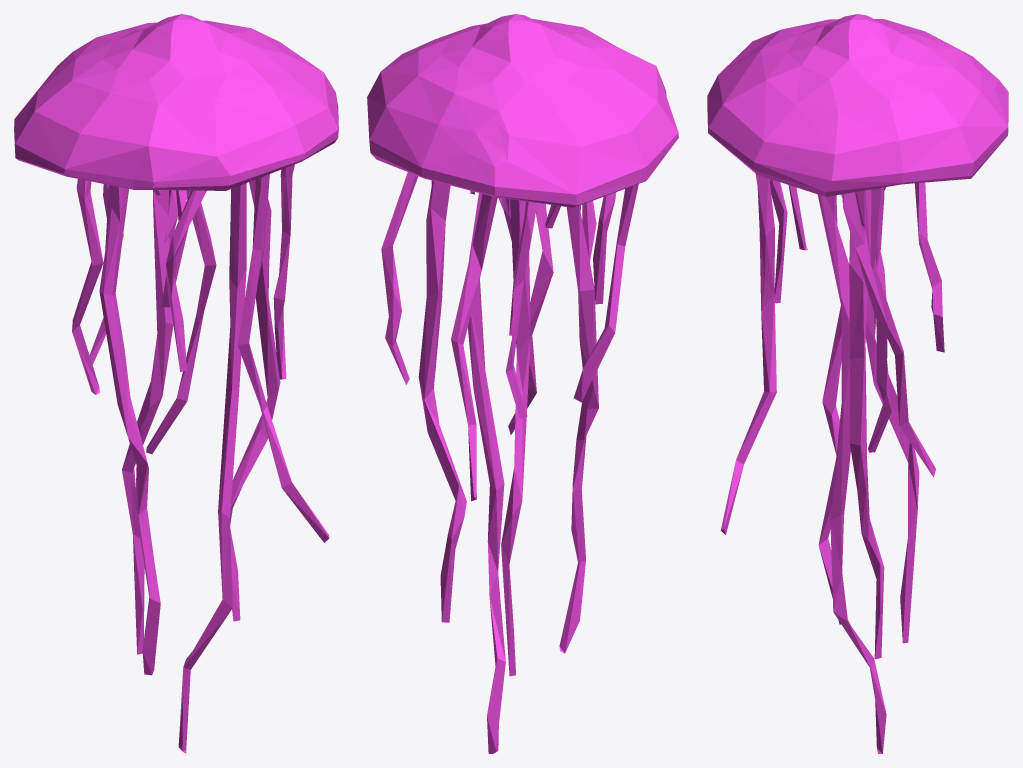
The model's file is SM_Mushroom_Jellyfish_Medium_C_Fantasy.fbx.
3 views of the same model, side by side, from view 1: azimuth 30°, elevation 25°; view 2: azimuth 150°, elevation 25°; view 3: azimuth 270°, elevation 25° (orthographic). The views are drawn at different scales.
Visible parts, largest first — view 1: SM_Mushroom_Jellyfish_Medium_C_Fantasy; view 2: SM_Mushroom_Jellyfish_Medium_C_Fantasy; view 3: SM_Mushroom_Jellyfish_Medium_C_Fantasy.
Boxes of the visible parts, x1,y1,x2,y2 form: SM_Mushroom_Jellyfish_Medium_C_Fantasy: [14, 14, 338, 753]; SM_Mushroom_Jellyfish_Medium_C_Fantasy: [367, 14, 678, 753]; SM_Mushroom_Jellyfish_Medium_C_Fantasy: [707, 14, 1008, 753].
Bounding box in the file's own units: 0.7794 × 1.92 × 0.7187.
